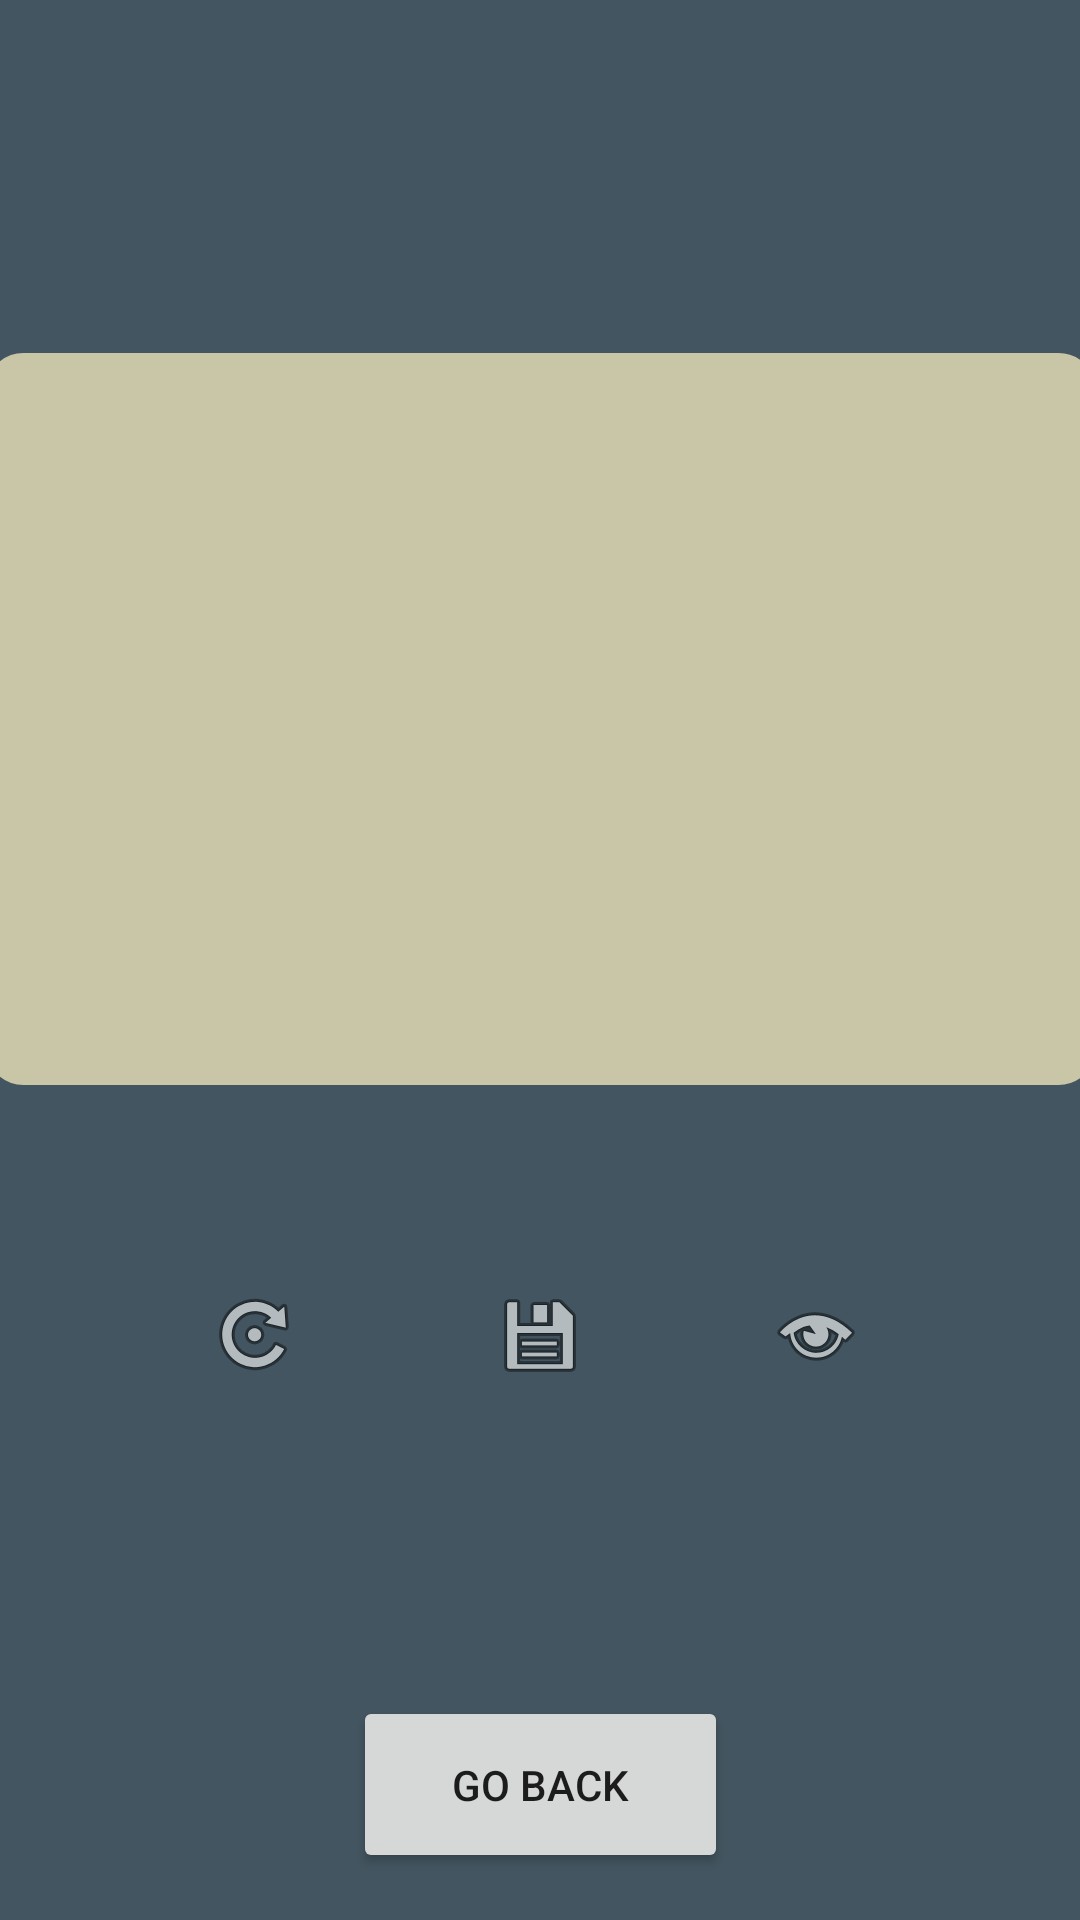

Locate icon controls on the screen. Image size 1080 × 1920, boxes as (x1, y1, x2, y2).
rotate: (219, 1299, 289, 1370)
save: (504, 1299, 576, 1372)
view: (777, 1312, 855, 1361)
